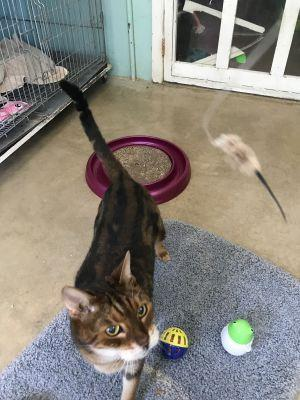bengal: (50, 250, 164, 368)
